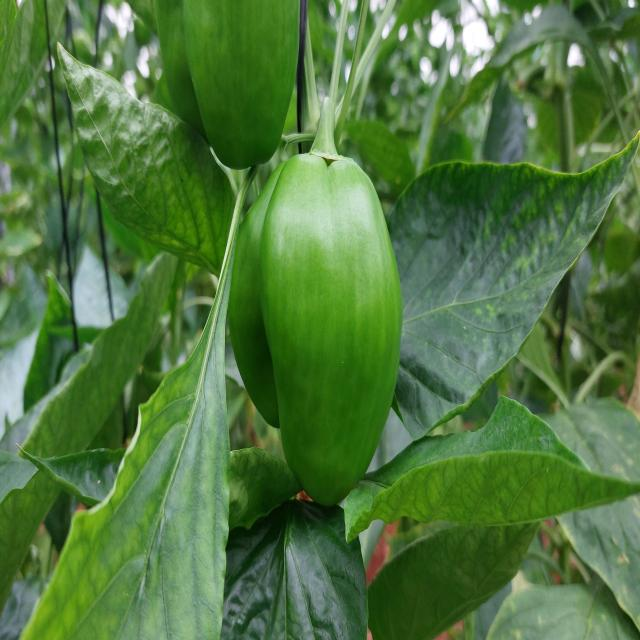Green--Not-ready-to-harvest: (219, 154, 409, 512), (154, 1, 301, 168)
